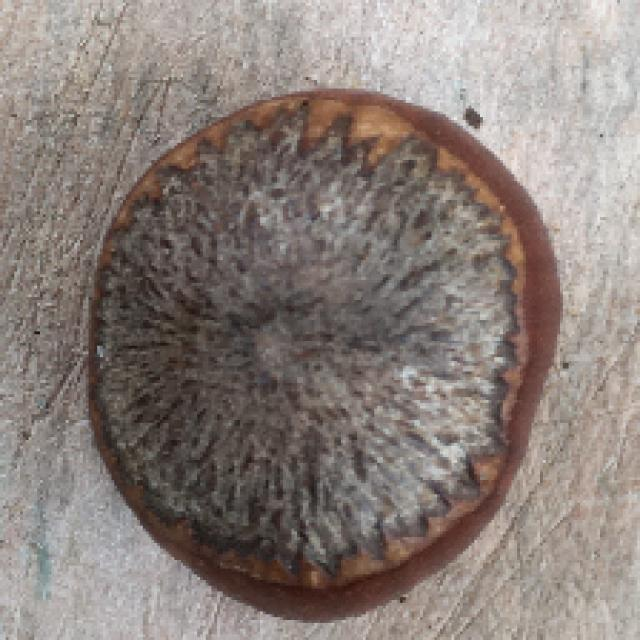qualityHazelnut: (84, 86, 563, 622)
